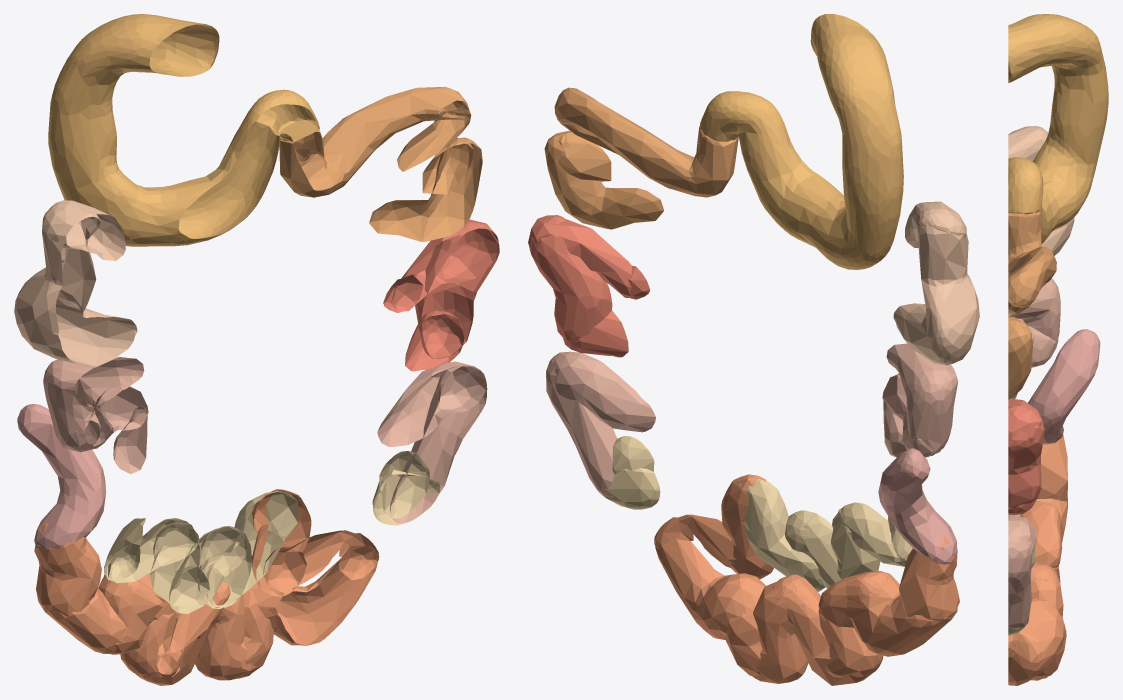
Rendered from intestino_tenue_interno.glb.
3 renders of one model, left to right at view 1: azimuth 30°, elevation 25°; view 2: azimuth 150°, elevation 25°; view 3: azimuth 270°, elevation 25°, orthographic. The views are drawn at different scales.
Visible parts, largest first — view 1: distal part of ileum, duodenum, proximal part of ileum, proximal part of jejunum, middle part of ileum, distal part of jejunum, middle part of jejunum, cecum; view 2: distal part of ileum, duodenum, proximal part of ileum, proximal part of jejunum, middle part of ileum, middle part of jejunum, distal part of jejunum, cecum; view 3: duodenum, distal part of ileum, proximal part of jejunum, proximal part of ileum, cecum, middle part of jejunum, distal part of jejunum, middle part of ileum.
Boxes of the visible parts, x1,y1,x2,y2 form: distal part of ileum: [34, 489, 379, 685]; duodenum: [48, 14, 319, 246]; proximal part of ileum: [43, 357, 487, 523]; proximal part of jejunum: [279, 86, 482, 241]; middle part of ileum: [104, 451, 440, 613]; distal part of jejunum: [14, 200, 137, 366]; middle part of jejunum: [383, 219, 499, 371]; cecum: [17, 404, 106, 551]; distal part of ileum: [654, 474, 959, 685]; duodenum: [700, 14, 903, 269]; proximal part of ileum: [546, 343, 957, 498]; proximal part of jejunum: [544, 87, 738, 229]; middle part of ileum: [598, 436, 912, 591]; middle part of jejunum: [528, 215, 650, 357]; distal part of jejunum: [893, 201, 979, 365]; cecum: [878, 448, 957, 564]; duodenum: [1008, 14, 1108, 243]; distal part of ileum: [1008, 434, 1067, 685]; proximal part of jejunum: [1008, 211, 1056, 399]; proximal part of ileum: [1008, 278, 1060, 628]; cecum: [1028, 329, 1100, 444]; middle part of jejunum: [1008, 398, 1044, 515]; distal part of jejunum: [1008, 126, 1074, 255]; middle part of ileum: [1008, 514, 1035, 635].
Size of the model in its own units: 194 by 272 by 39.77.
